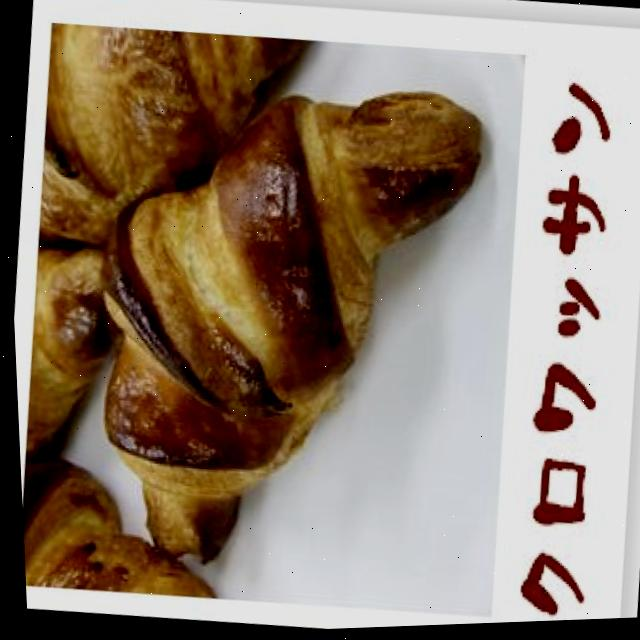面包点心: (48, 47, 503, 607)
